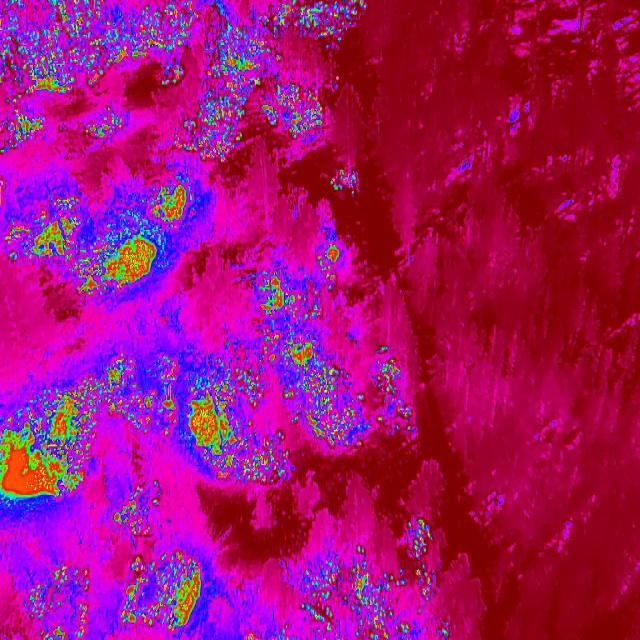fire: (253, 247, 417, 447), (2, 170, 208, 295), (103, 350, 293, 484), (185, 0, 328, 170), (0, 0, 185, 91), (293, 546, 452, 640), (0, 376, 99, 523), (119, 547, 217, 640), (23, 564, 94, 640), (110, 479, 162, 543), (0, 108, 51, 148), (326, 0, 366, 45), (82, 112, 128, 140), (402, 520, 435, 546)
